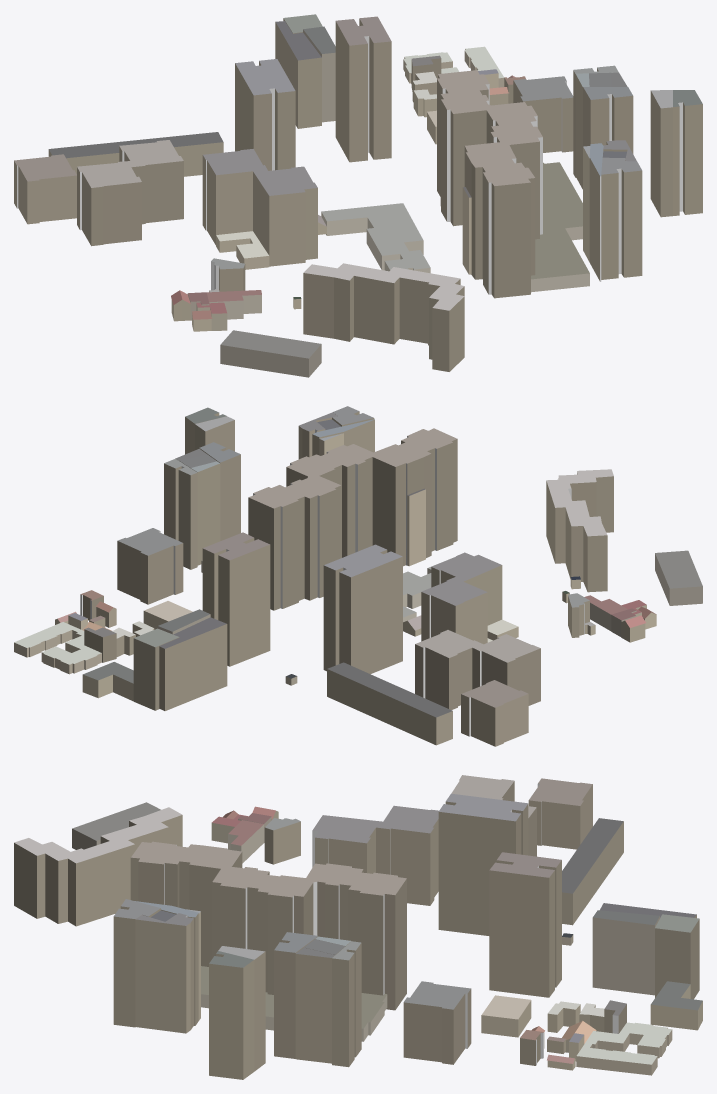
3 renders of one model, top to bottom at view 1: azimuth 30°, elevation 25°; view 2: azimuth 150°, elevation 25°; view 3: azimuth 270°, elevation 25°, orthographic. The views are drawn at different scales.
Visible parts, largest first — view 1: tuile; view 2: tuile; view 3: tuile.
Part boxes in pixels (left/top/right/bottom): tuile: left=14, top=14, right=702, bottom=377; tuile: left=14, top=406, right=702, bottom=746; tuile: left=14, top=775, right=702, bottom=1079.
Size of the model in its own units: 266 by 58.3 by 296.
